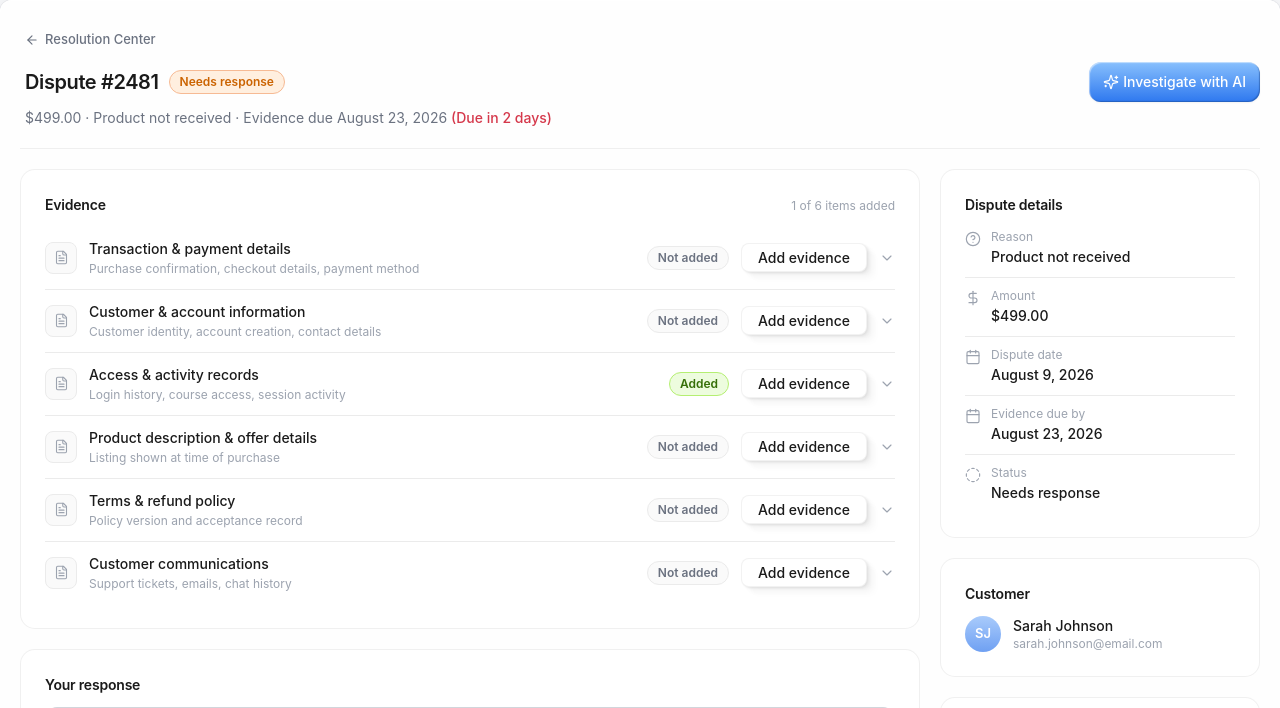
Scenario: added evidence has no review/approval state › never shows an 'AI found'/'Reviewed' badge or a 'Mark as reviewed' action, for AI-found or seller-added evidence alike
# Categories start collapsed (accordion) — expand this one to see its items.
Click the text "Access & activity records".
click(174, 374)  # box [89, 366, 259, 382]
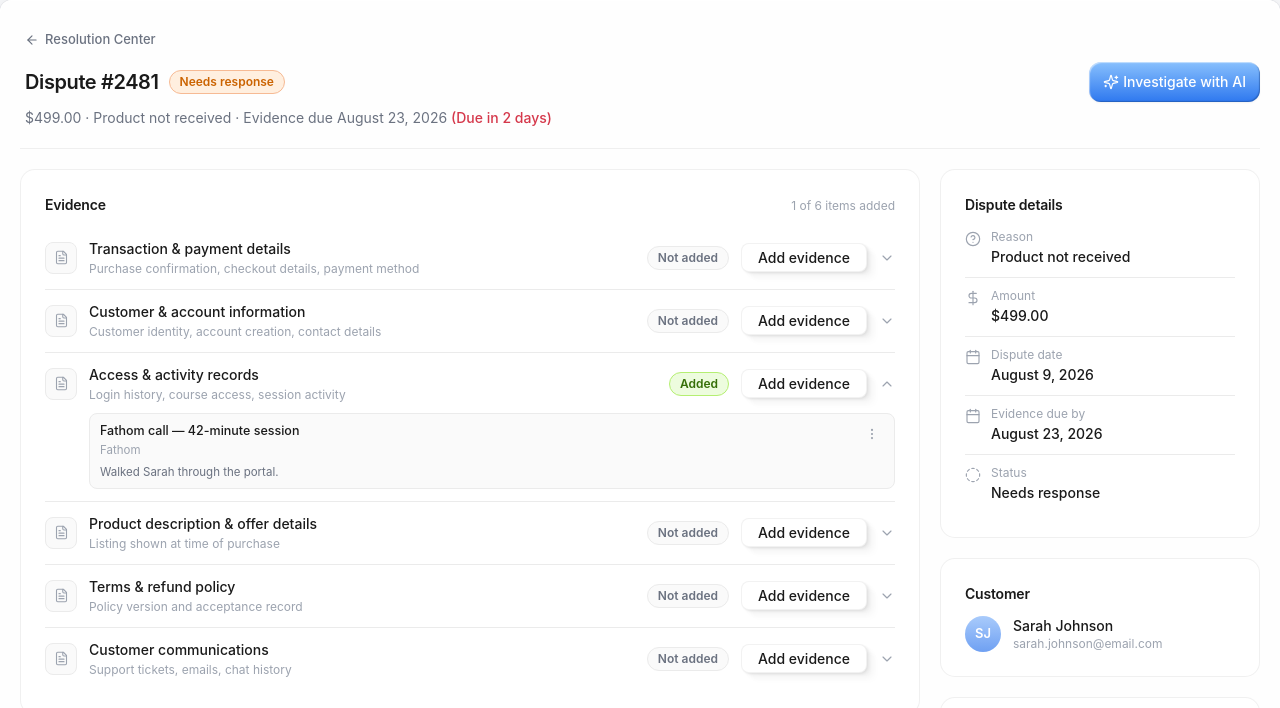
Expected: the text "Fathom call — 42-minute session" is shown, [100, 422, 299, 440]
# Added evidence is active immediately: the row's own menu offers only Edit/Delete.
Click the button named "Evidence actions".
click(872, 434)  # box [860, 422, 884, 446]
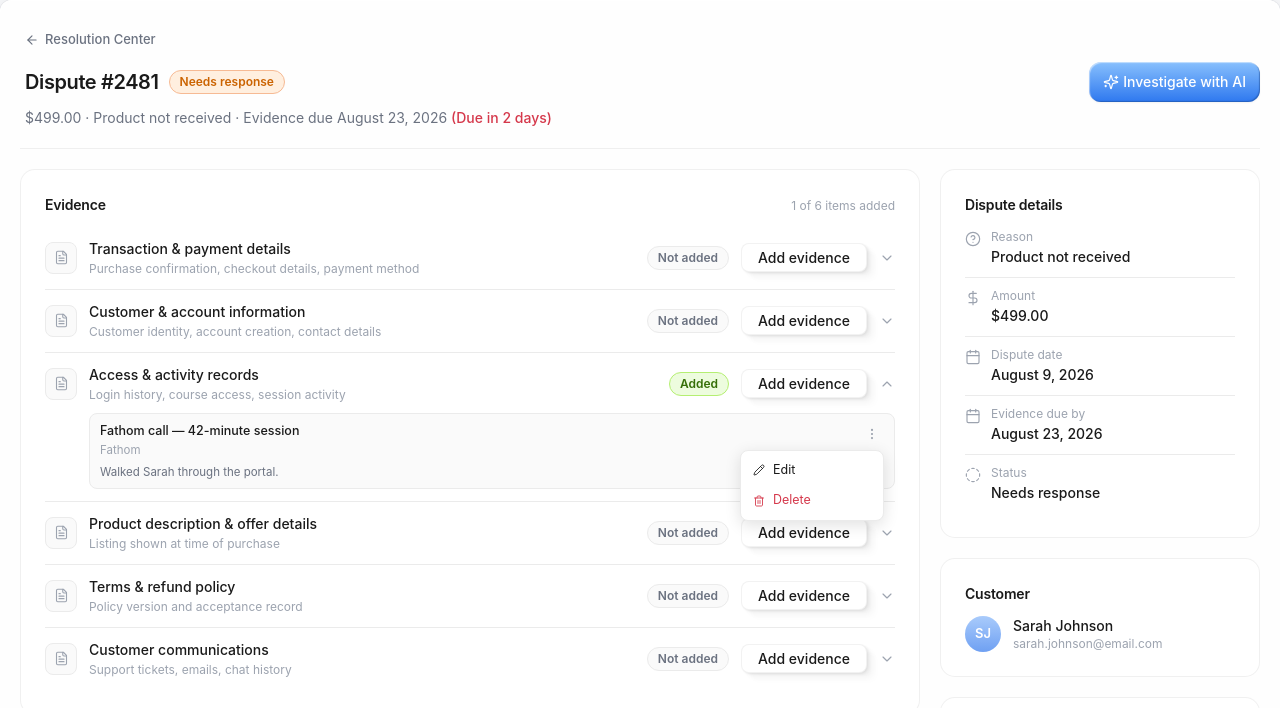
Expected: the menu item "Edit" is shown, [741, 454, 883, 485]
Expected: the menu item "Delete" is shown, [741, 485, 883, 516]
# Opening the detail modal itself never shows review UI either.
Click the text "Fathom call — 42-minute session".
click(200, 431)  # box [100, 422, 299, 440]
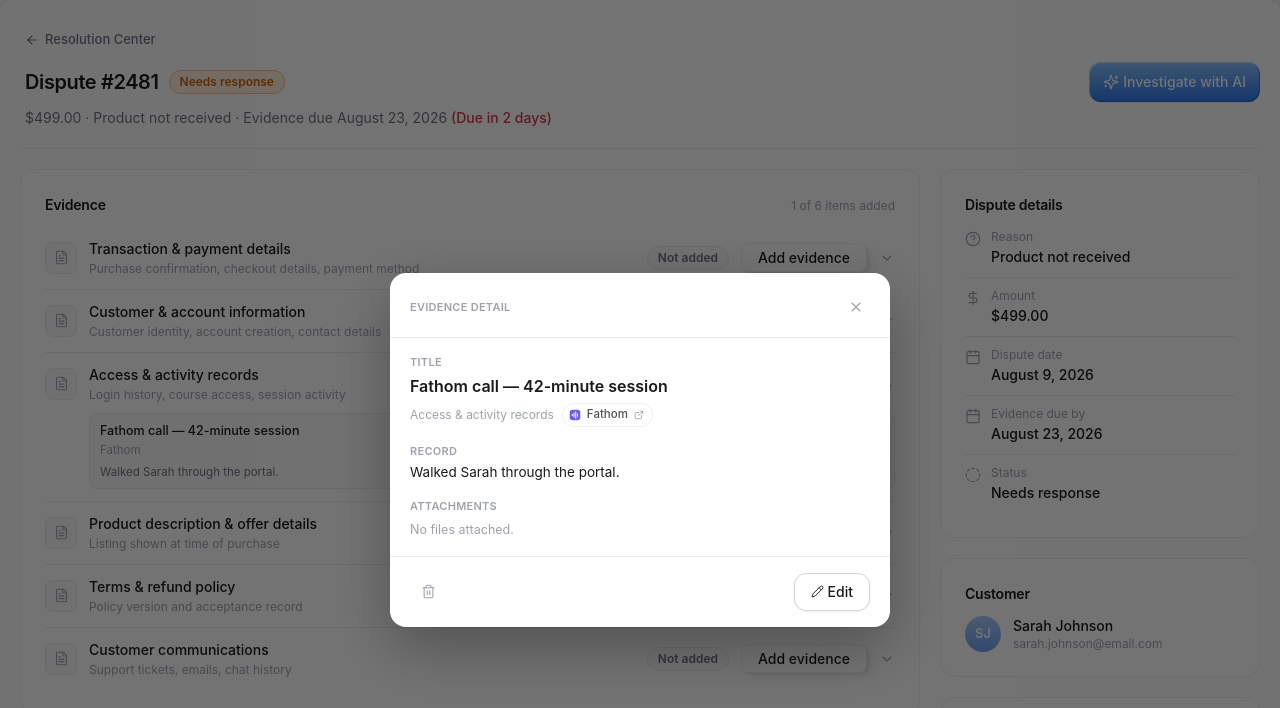
Expected: the text "Evidence detail" is shown, [410, 299, 510, 316]
